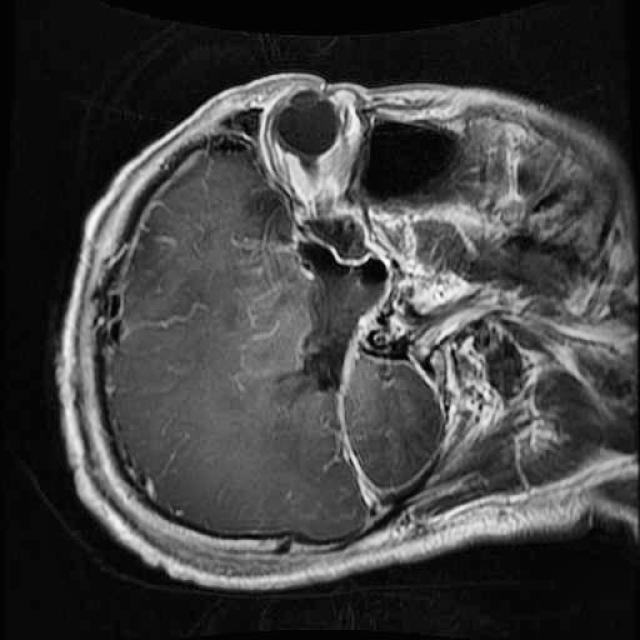Tumor: (277, 211, 405, 418)
